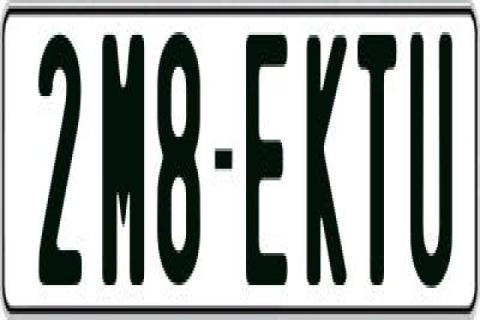0: (37, 29, 85, 291), (158, 32, 200, 285)
E: (243, 29, 290, 288)
K: (305, 32, 347, 296)
M: (102, 32, 146, 285)
T: (356, 26, 396, 276)
U: (410, 29, 452, 288)
